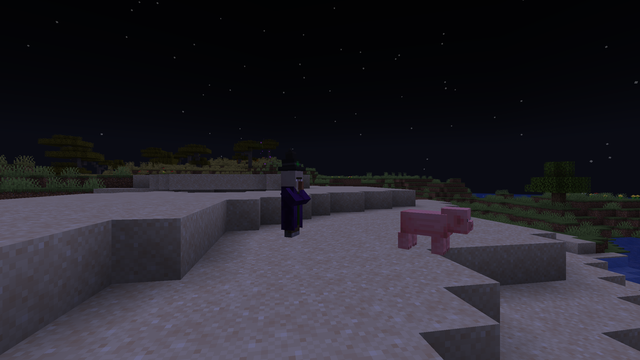cochons: (399, 208, 456, 255)
sorcieres: (281, 168, 303, 238)
